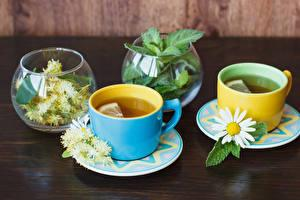chamomile: (212, 110, 254, 143)
